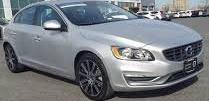Cars: (5, 3, 203, 100)
